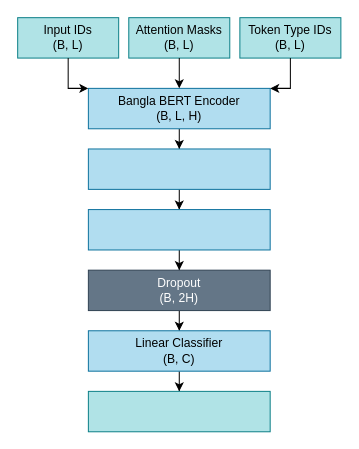
The diagram is 359 pixels wide and 449 high, and some of its shapes have lost their labels. Each missing label, with the box of its shape:
BiLSTM (B, L, 2H): (87, 148, 270, 189)
Output: (87, 390, 270, 432)
Select Last Step (B, 2H): (87, 209, 270, 250)
